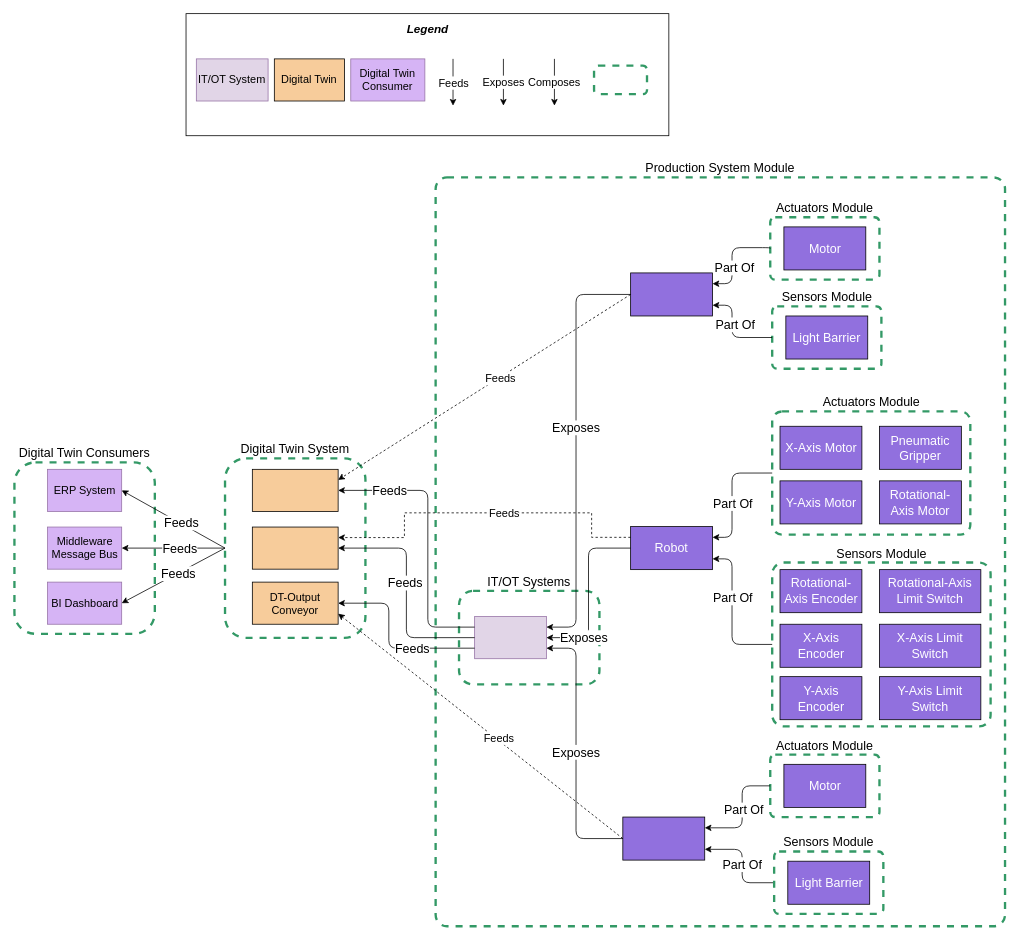
This 1019x941 diagram has some shape labels left out. Here are the shapes that lost their labels. From the top down, the centre of each, then its label:
the point at 620,79: Module
the point at 671,294: Input Conveyor
the point at 295,490: DT-Input Conveyor
the point at 295,547: DT-Robot Vacuum Gripper
the point at 510,637: OPC-UA
the point at 663,838: Output Conveyor
